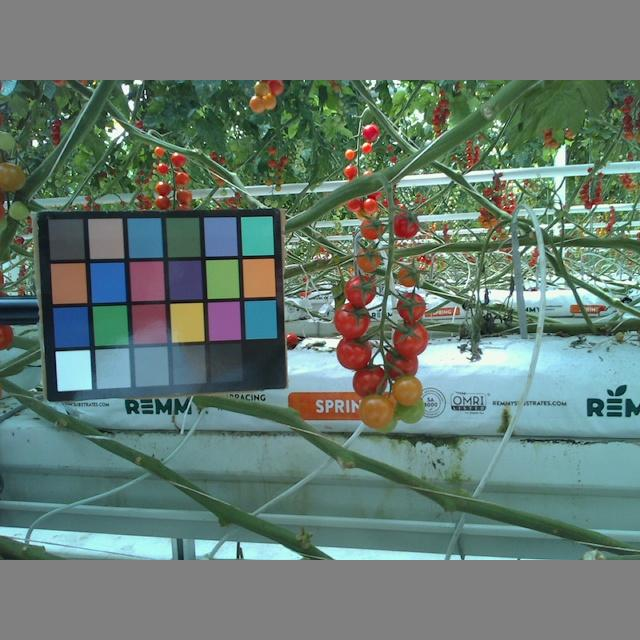pink: (354, 391, 396, 426), (390, 374, 422, 406), (1, 162, 30, 194), (355, 246, 383, 271), (360, 215, 382, 240), (397, 264, 420, 286)
red: (392, 319, 429, 359), (332, 301, 370, 339), (335, 333, 373, 368), (351, 365, 387, 401), (382, 345, 418, 380), (342, 272, 377, 306), (387, 209, 420, 239), (395, 293, 428, 321)
